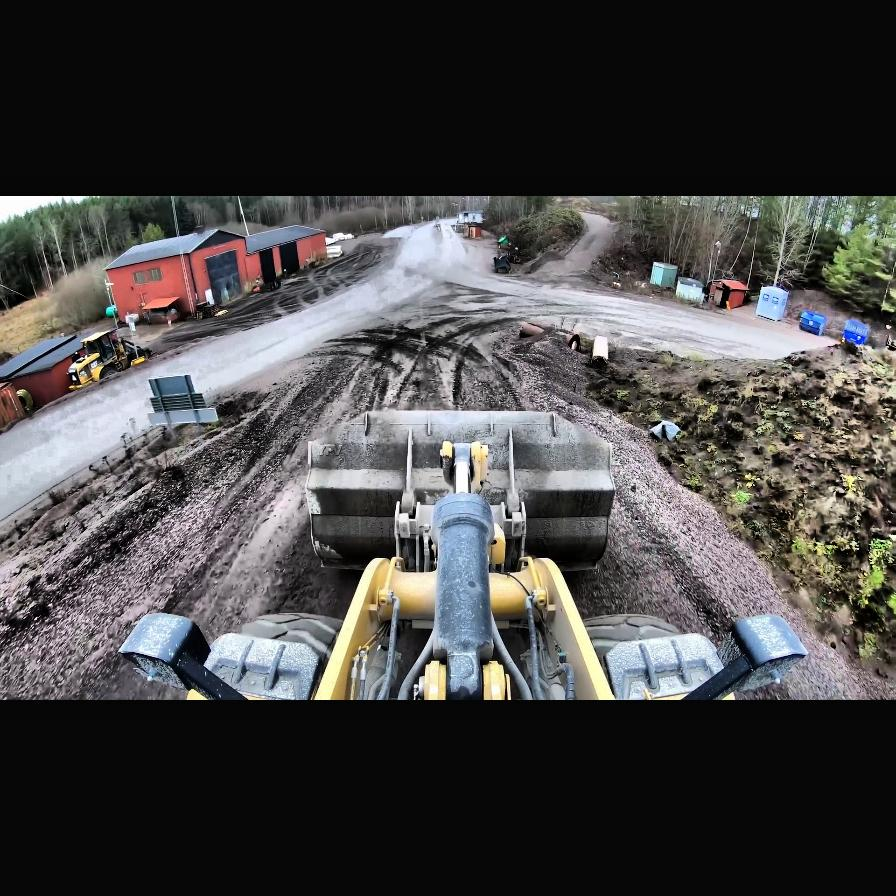anchor: (441, 440, 489, 492)
